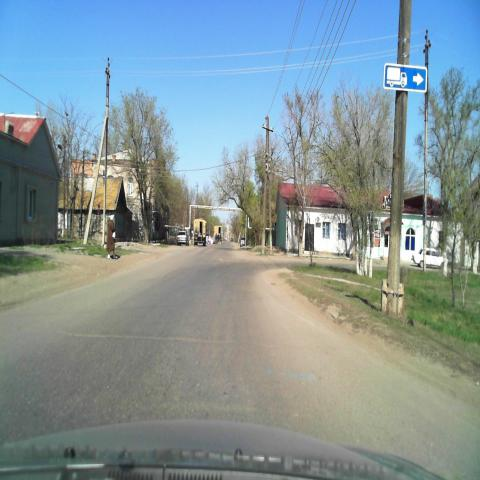6_15_2: (384, 63, 428, 94)
